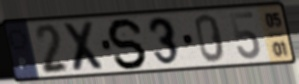0: (194, 12, 226, 65)
2: (33, 22, 72, 76)
3: (147, 14, 184, 69)
5: (227, 10, 262, 61)
S: (106, 17, 150, 71)
X: (60, 20, 109, 73)
